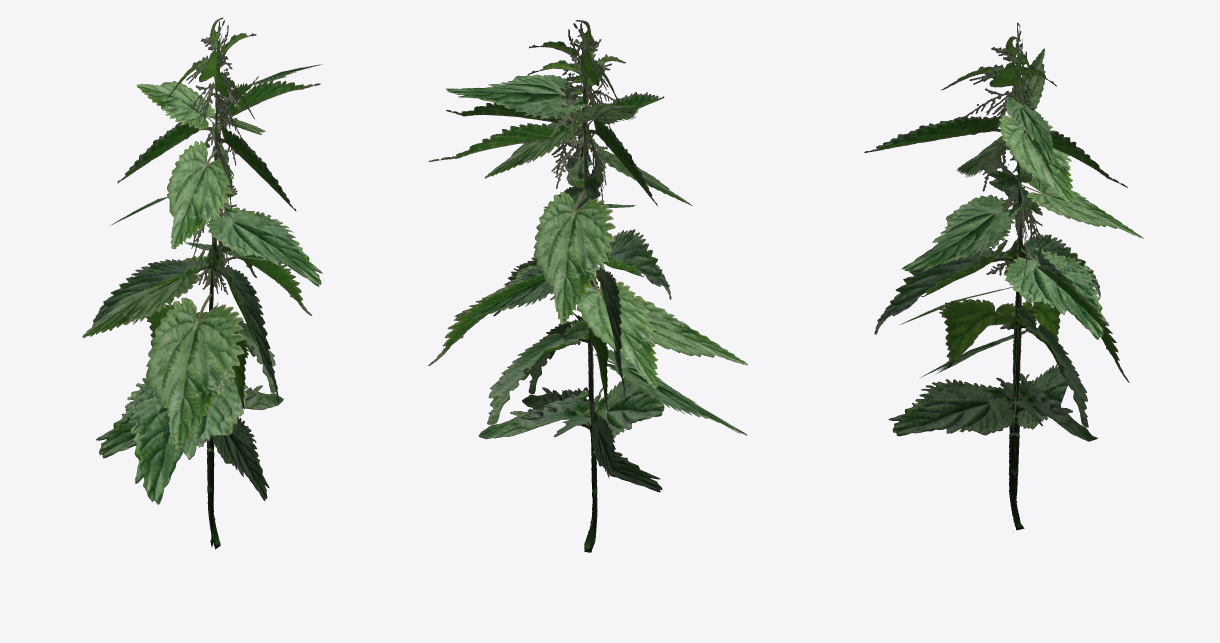
The model's file is Stinging_nettle.fbx.
The picture shows the model from 3 angles, left to right: view 1: azimuth 30°, elevation 25°; view 2: azimuth 150°, elevation 25°; view 3: azimuth 270°, elevation 25°; orthographic projection. The views are drawn at different scales.
Parts seen in each view (by area): view 1: stinging_nettle; view 2: stinging_nettle; view 3: stinging_nettle.
Boxes of the visible parts, bbox=[...] form: stinging_nettle: bbox=[82, 17, 322, 549]; stinging_nettle: bbox=[428, 20, 747, 552]; stinging_nettle: bbox=[864, 22, 1143, 532].
Bounding box in the file's own units: 0.9301 × 1.5 × 0.949.
